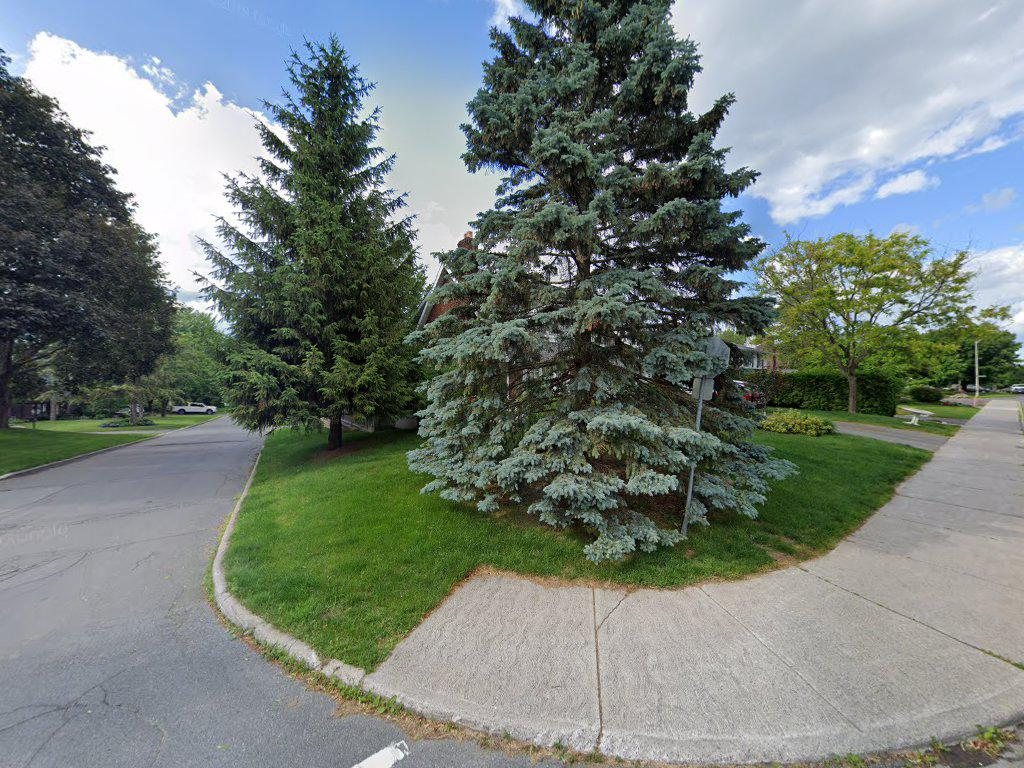trunk: (327, 416, 344, 449)
